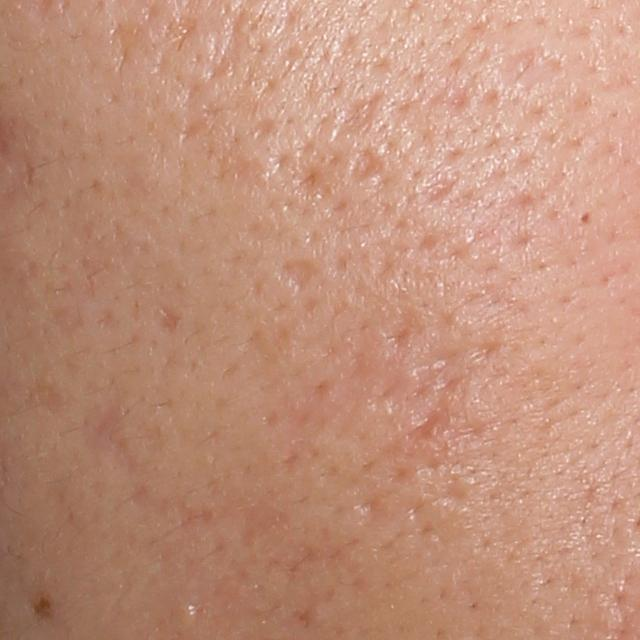atrophic_scar: (82, 393, 140, 475), (331, 86, 393, 143), (498, 46, 564, 94), (240, 497, 296, 545), (108, 21, 146, 87), (287, 158, 340, 203), (402, 402, 450, 444), (272, 253, 317, 295), (346, 143, 387, 189), (382, 307, 421, 351), (155, 307, 185, 330)
comedo: (169, 599, 200, 631), (575, 207, 597, 231)
